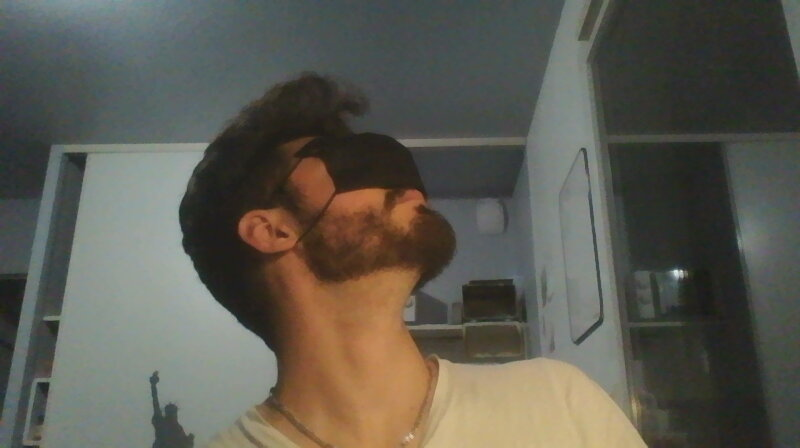with_incorrect_mask: (187, 73, 463, 290)
